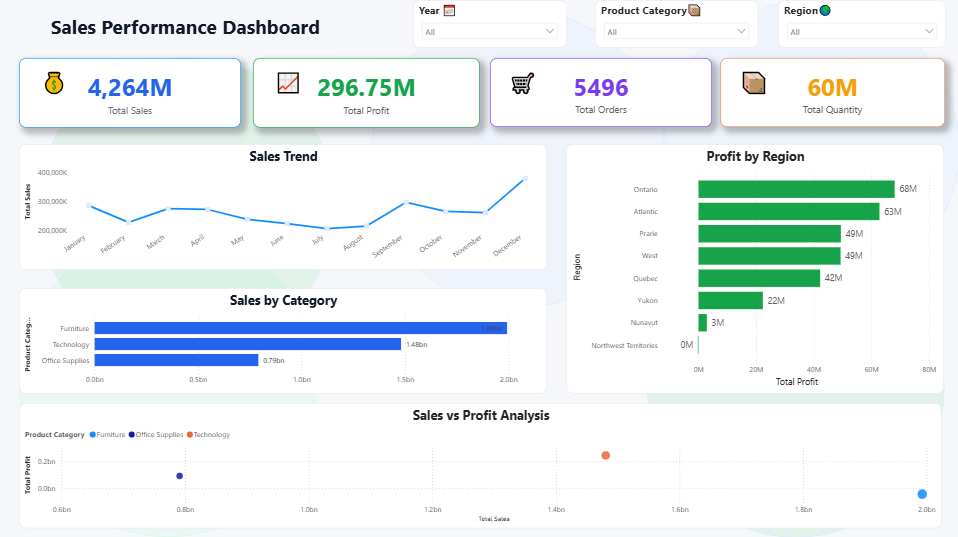

The page's visual inventory and layout, read from the dashboard file:
{"tool":"powerbi","page":{"name":"Executive Sales Overview","canvas":[1600,900],"ordinal":0},"visuals":[{"type":"shape","box":[1077.6,399.5,496,496],"z":0},{"type":"shape","box":[32,384,496,512],"z":1000},{"type":"shape","box":[616.7,16.7,496.7,496.7],"z":2000},{"type":"shape","box":[63.8,95.7,496.1,496.1],"z":3000},{"type":"shape","box":[1104,0,496,496],"z":4000},{"type":"slicer","title":"Year 📅","fields":{"Values":["Dim_Date.Year"]},"box":[688,0,256,80],"z":5000},{"type":"lineChart","title":"Sales Trend","fields":{"Category":["Dim_Date.Date.Variation.Date Hierarchy.Month"],"Y":["Fact_Sales.Total Sales"]},"box":[32,240,880,210],"z":6000},{"type":"clusteredBarChart","title":"Sales by Category","fields":{"Category":["Dim_Product.Product Category"],"Y":["Fact_Sales.Total Sales"]},"box":[32,480,880,176],"z":7000},{"type":"card","title":"Total Sales","fields":{"Values":["Fact_Sales.Total Sales"]},"box":[32,96,370,116],"z":8000},{"type":"slicer","title":"Product Category📦","fields":{"Values":["Dim_Product.Product Category"]},"box":[992,0,272,80],"z":9000},{"type":"textbox","box":[32,16,528,64],"z":10000},{"type":"card","fields":{"Values":["Fact_Sales.Total Quantity"]},"box":[1200,96,375,115],"z":11000},{"type":"card","fields":{"Values":["Fact_Sales.Total Profit"]},"box":[422,96,378,116],"z":12000},{"type":"card","fields":{"Values":["Fact_Sales.Total Orders"]},"box":[816,96,370,115],"z":13000},{"type":"clusteredBarChart","title":"Profit by Region","fields":{"Category":["Dim_Customer.Region"],"Y":["Fact_Sales.Total Profit"]},"box":[944,240,630,416],"z":14000},{"type":"slicer","title":"Region🌍","fields":{"Values":["Dim_Customer.Region"]},"box":[1296,0,280,80],"z":15000},{"type":"shape","box":[50,112,80,48],"z":16000},{"type":"shape","box":[448,112,64,48],"z":17000},{"type":"shape","box":[832,112,80,48],"z":18000},{"type":"shape","box":[1216,112,80,48],"z":19000},{"type":"scatterChart","title":"Sales vs Profit Analysis","fields":{"X":["Fact_Sales.Total Sales"],"Y":["Fact_Sales.Total Profit"],"Series":["Dim_Product.Product Category"],"Size":["Fact_Sales.Total Sales"]},"box":[32,672,1538,209],"z":20000}]}

Visuals, with their boxes in screenshot pixels (x1, y1, x2, y2), scaled from the page's 1600x900 canvas onto the 958x537 screenshot:
shape: 645, 238, 942, 534
shape: 19, 229, 316, 535
shape: 369, 10, 667, 306
shape: 38, 57, 335, 353
shape: 661, 0, 957, 296
"Year 📅" slicer: 412, 0, 565, 48
"Sales Trend" lineChart: 19, 143, 546, 268
"Sales by Category" clusteredBarChart: 19, 286, 546, 391
"Total Sales" card: 19, 57, 241, 126
"Product Category📦" slicer: 594, 0, 757, 48
textbox: 19, 10, 335, 48
card - Fact_Sales.Total Quantity: 718, 57, 943, 126
card - Fact_Sales.Total Profit: 253, 57, 479, 126
card - Fact_Sales.Total Orders: 489, 57, 710, 126
"Profit by Region" clusteredBarChart: 565, 143, 942, 391
"Region🌍" slicer: 776, 0, 944, 48
shape: 30, 67, 78, 95
shape: 268, 67, 307, 95
shape: 498, 67, 546, 95
shape: 728, 67, 776, 95
"Sales vs Profit Analysis" scatterChart: 19, 401, 940, 526
